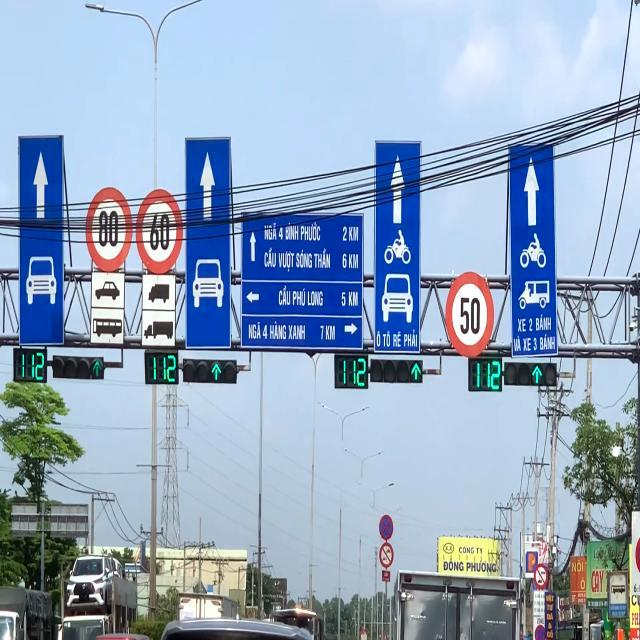Cam dung xe va do xe: (378, 514, 394, 542)
Toc do toi da cho phep: (84, 182, 134, 274), (446, 268, 494, 358), (134, 188, 182, 272)
